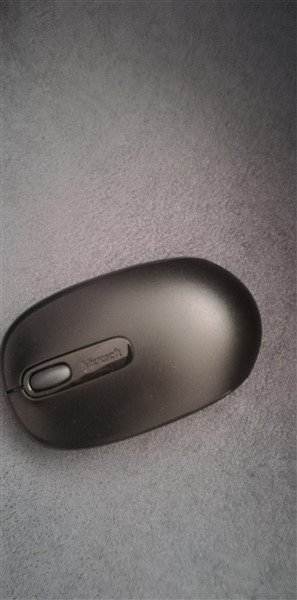mouse: (1, 253, 268, 459)
